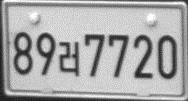0: (157, 34, 178, 79)
2: (133, 34, 155, 78)
7: (106, 33, 129, 78), (84, 33, 105, 77)
8: (13, 31, 34, 75)
9: (35, 32, 56, 76)
러: (57, 40, 80, 77)
